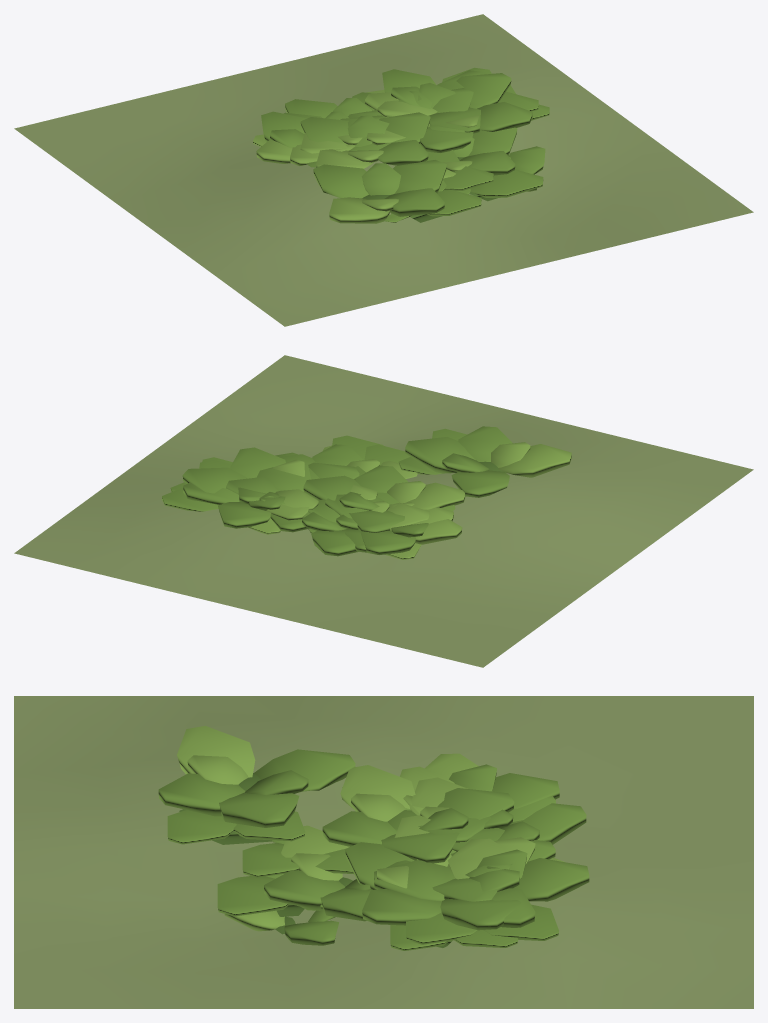
File: master_grass_lush_02.glb
3 views of the same model, one above another, from view 1: azimuth 30°, elevation 25°; view 2: azimuth 150°, elevation 25°; view 3: azimuth 270°, elevation 25° (orthographic). The views are drawn at different scales.
Visible parts, largest first — view 1: master_grass_lush_02; view 2: master_grass_lush_02; view 3: master_grass_lush_02.
Part boxes in pixels (<box>): master_grass_lush_02: <box>14,14,753,326</box>; master_grass_lush_02: <box>14,355,753,667</box>; master_grass_lush_02: <box>14,696,753,1008</box>.
Size of the model in its own units: 1.35 by 0.1339 by 1.35.
